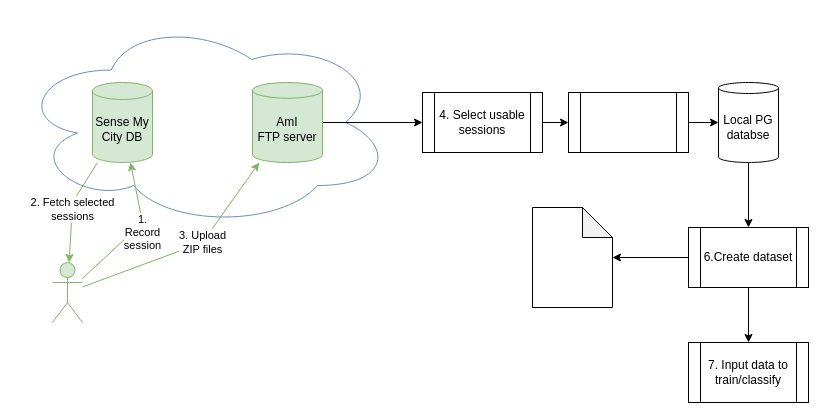
Image size: 826x420. Some labels were removed from this diagram. The centre of each missing label's shape, as x and y in pixels:
"5. Transform into lines" goes at pixel 628 122.
"CSV Dataset" goes at pixel 572 257.
"Student" goes at pixel 67 292.
